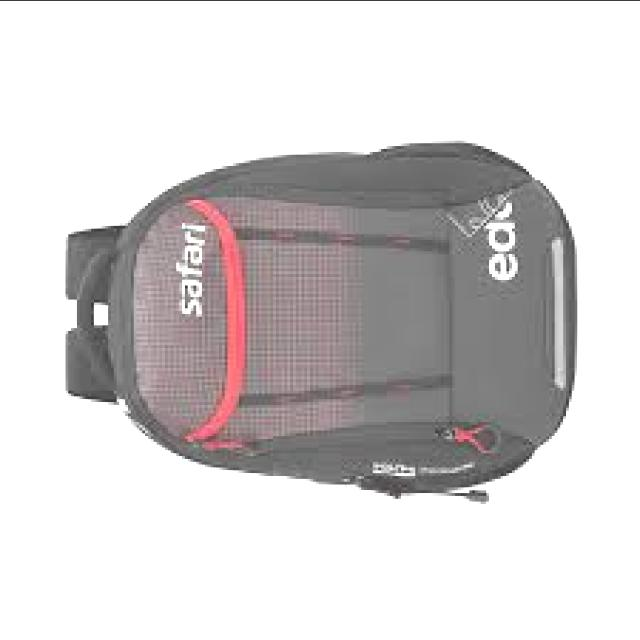backpack: (61, 141, 579, 505)
